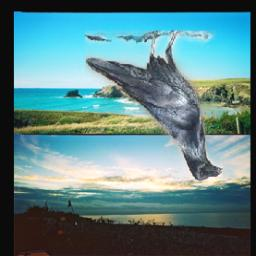Crow: (86, 31, 224, 181)
